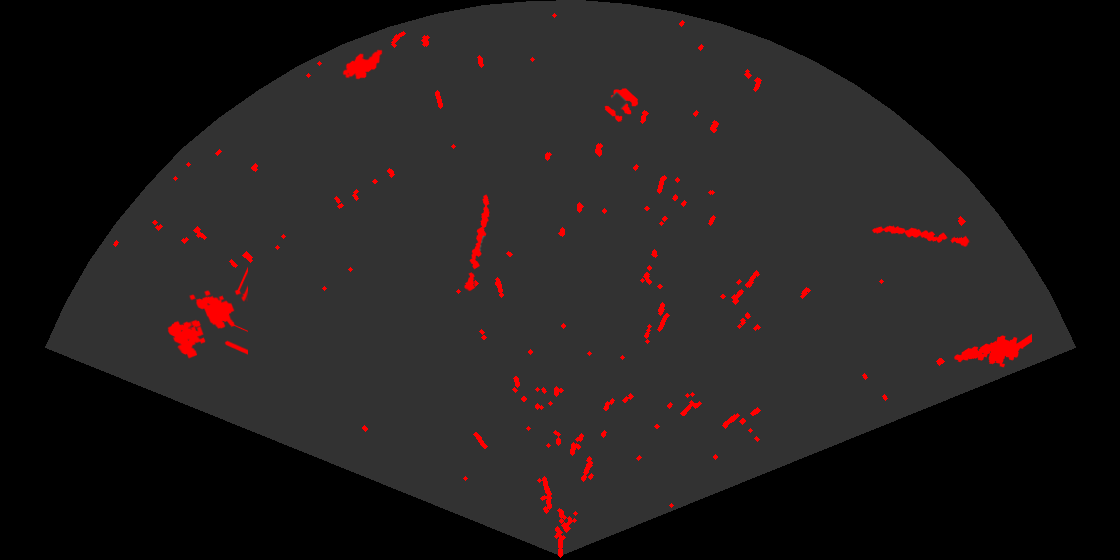AUV: (341, 48, 384, 81)
ball: (603, 87, 640, 124)
cage: (166, 265, 248, 360)
chain: (463, 193, 491, 294), (870, 224, 972, 248)
frogman: (952, 332, 1032, 369)
